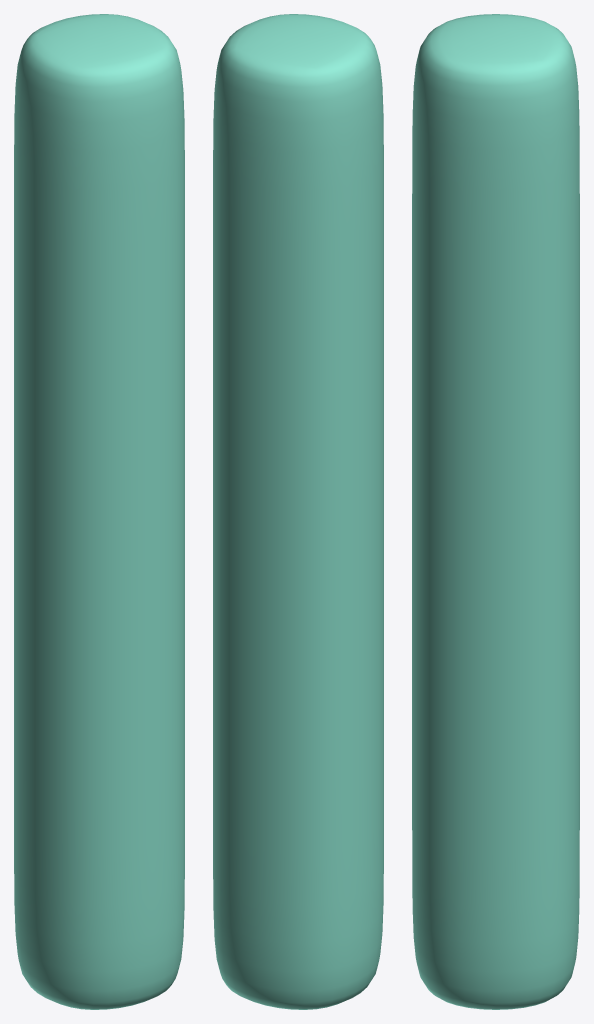
Rendered from stand.glb.
The picture shows the model from 3 angles, left to right: view 1: azimuth 30°, elevation 25°; view 2: azimuth 150°, elevation 25°; view 3: azimuth 270°, elevation 25°; orthographic projection.
Parts seen in each view (by area): view 1: 立方体.001; view 2: 立方体.001; view 3: 立方体.001.
Boxes of the visible parts, <box> form: 立方体.001: <box>14,14,184,1009</box>; 立方体.001: <box>213,14,383,1009</box>; 立方体.001: <box>412,14,579,1009</box>.
Bounding box in the file's own units: 0.55 × 3.44 × 0.55.
